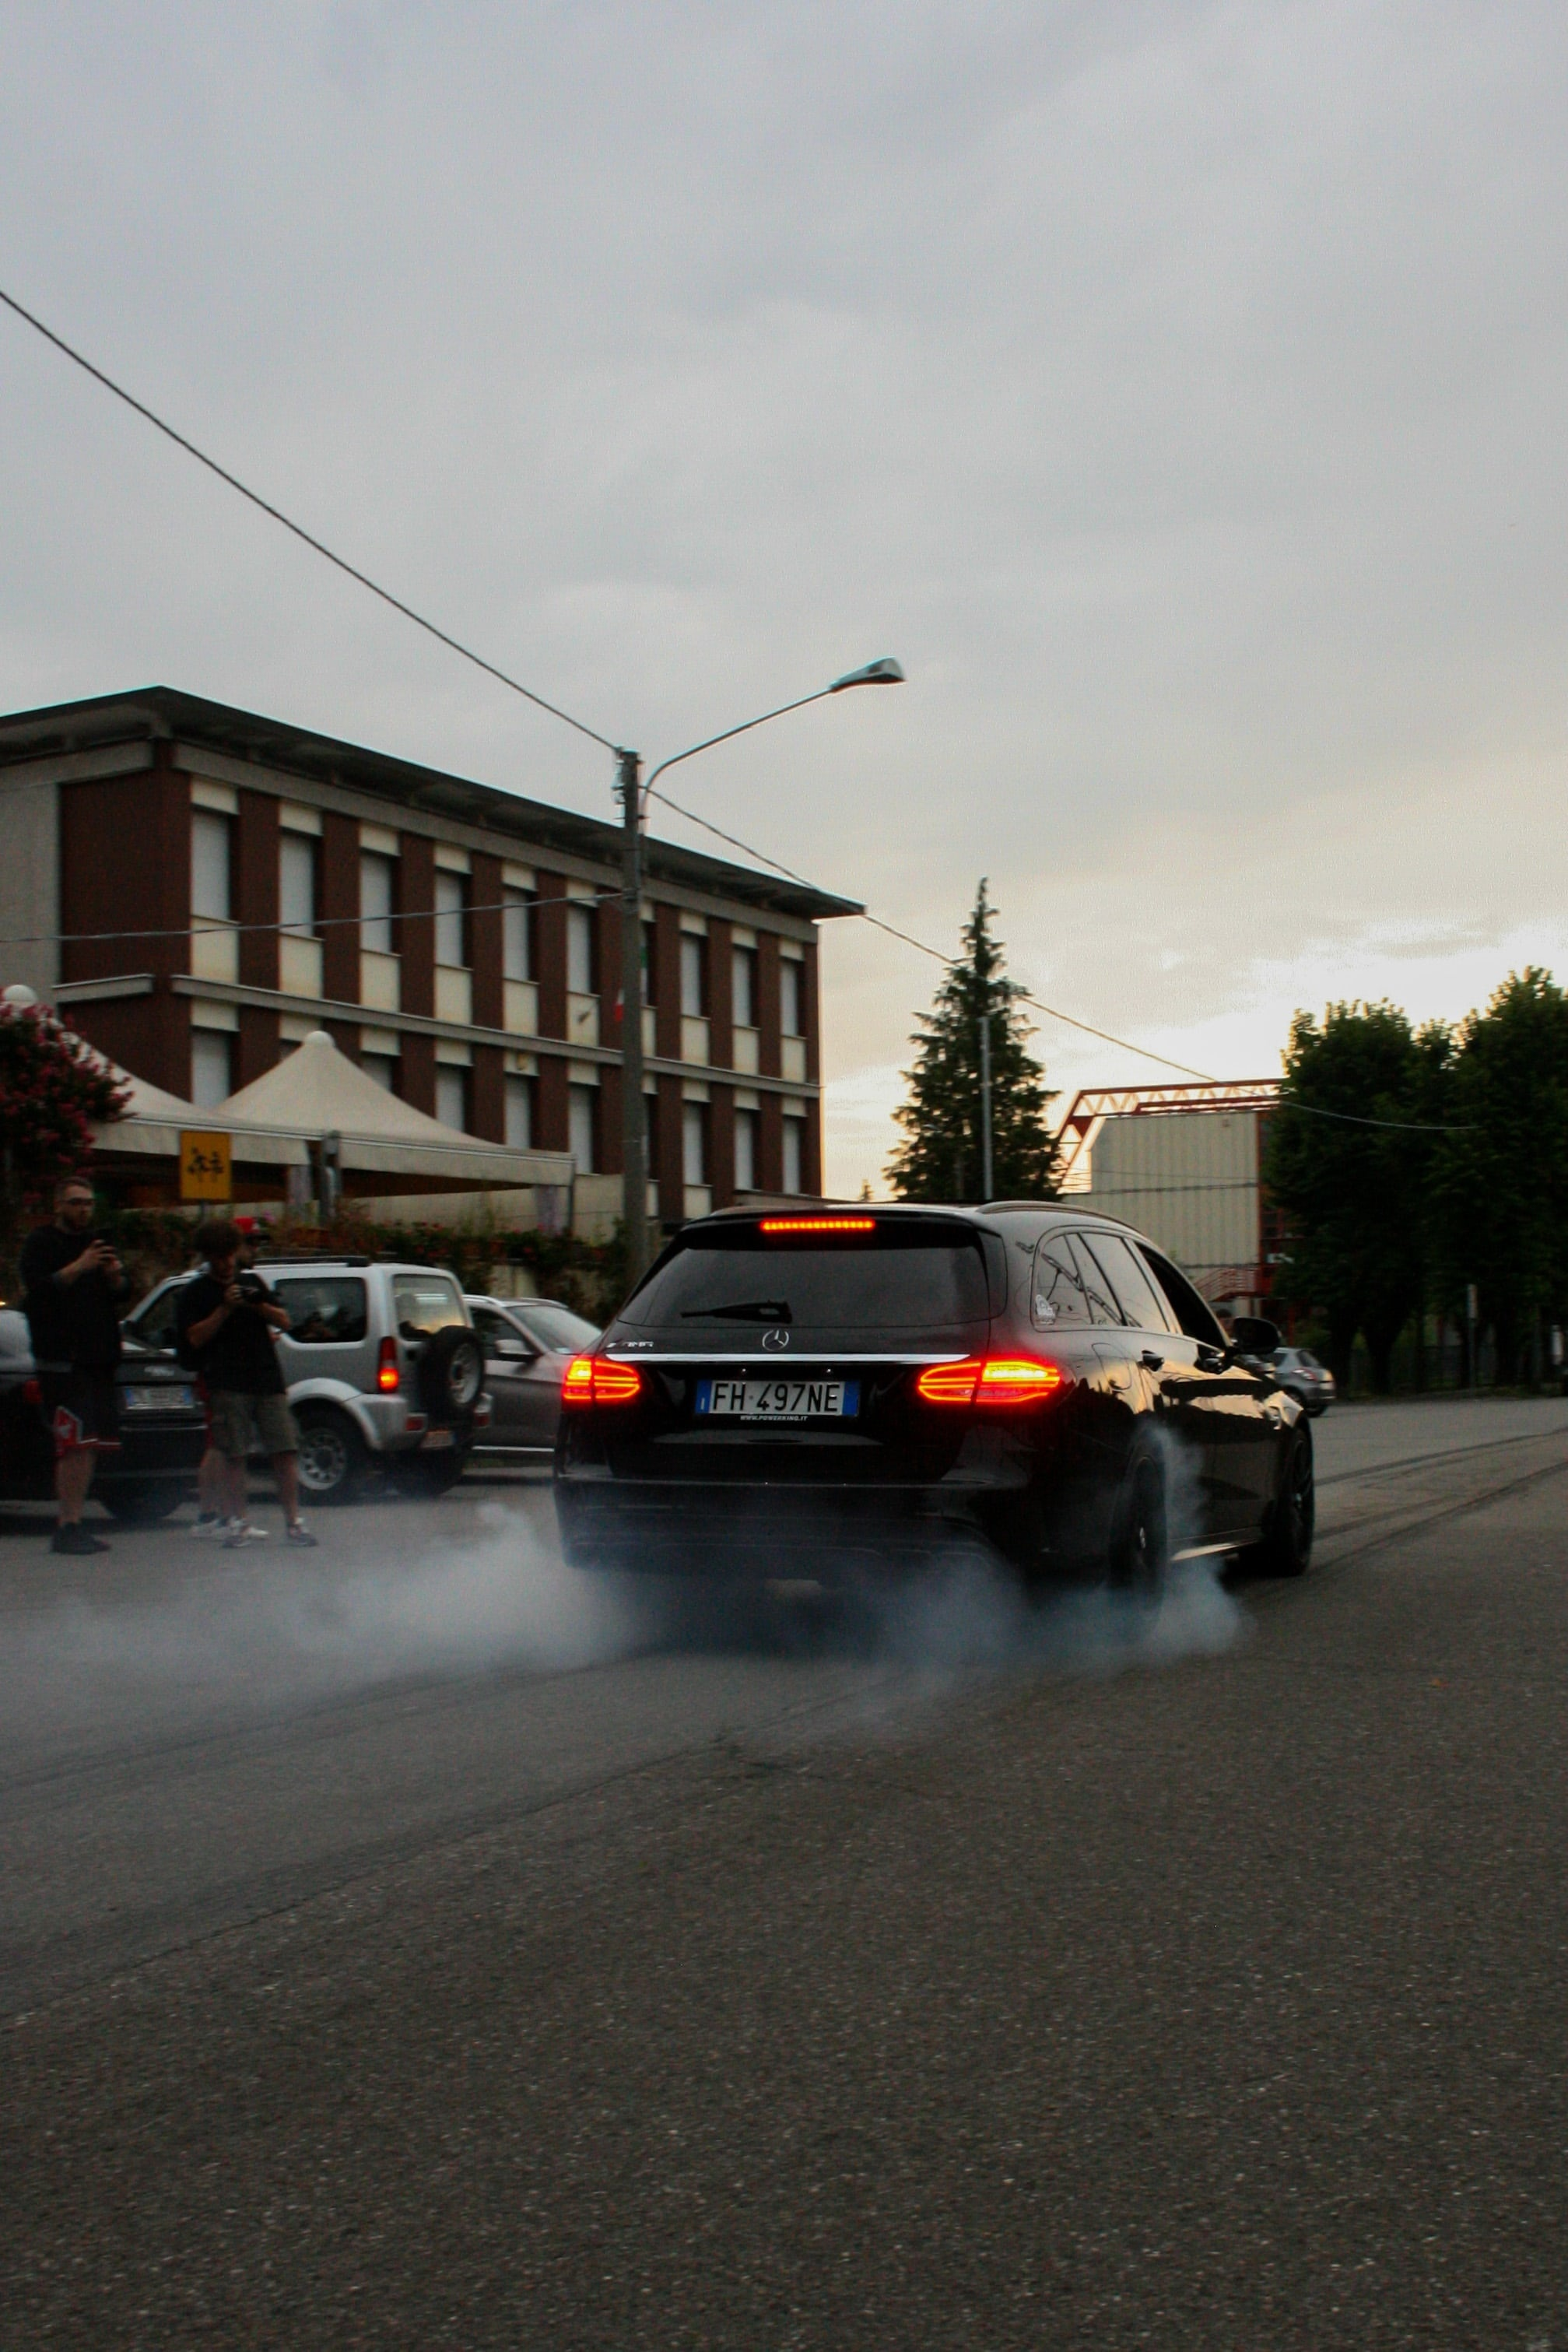plaka: (689, 1377, 868, 1421)
